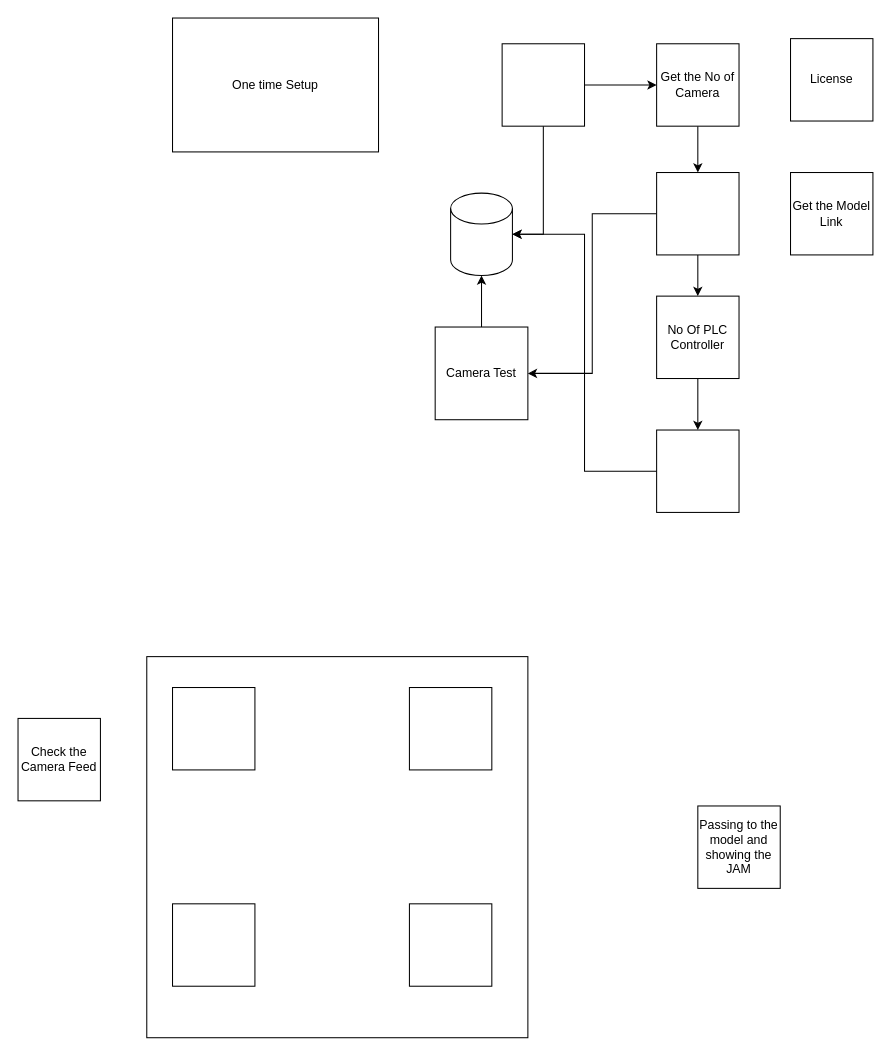
The diagram is 891 pixels wide and 1056 high, and some of its shapes have lost their labels. Each missing label, with the box of its shape:
Camera Links: (656, 171, 739, 255)
Display the feeds: (146, 656, 528, 1038)
For each PLC get IP address and Port No: (656, 429, 739, 512)
Get the System UUID: (501, 43, 585, 126)
